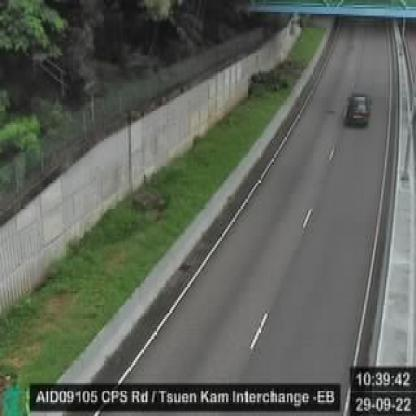Car: (343, 89, 372, 128)
